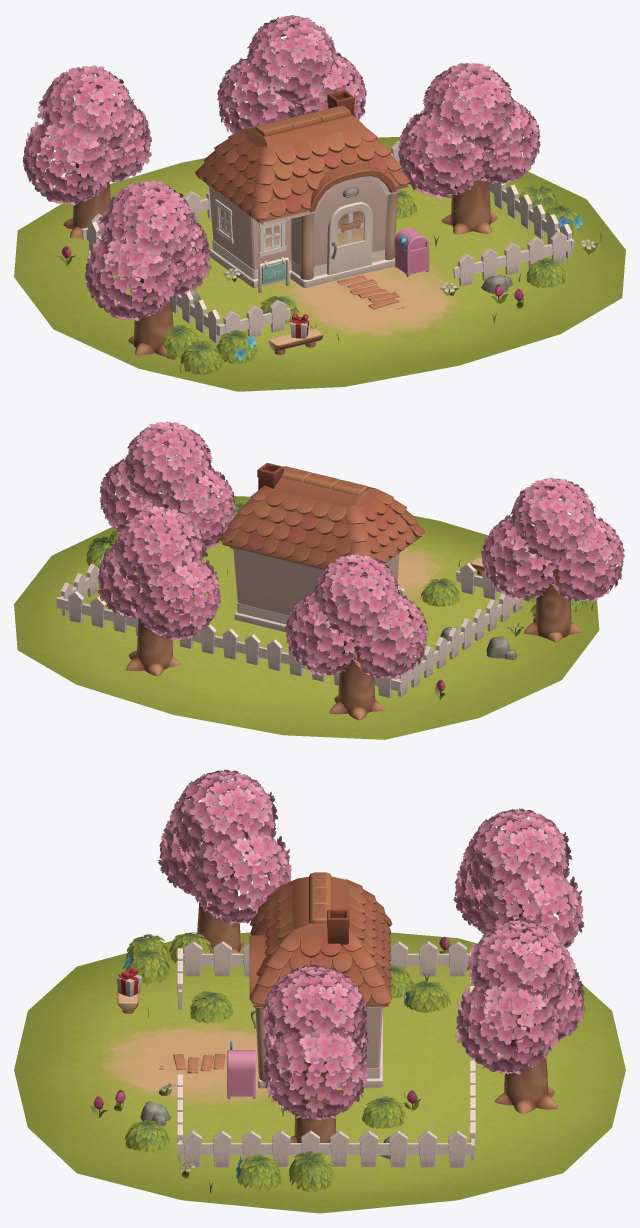
Rendered from animal_crossing_atlas_diorama_3.glb.
3 views of the same model, one above another, from view 1: azimuth 30°, elevation 25°; view 2: azimuth 150°, elevation 25°; view 3: azimuth 270°, elevation 25° (orthographic). The views are drawn at different scales.
Parts seen in each view (by area): view 1: ground, polySurface122 (×4), polySurface121 (×4), base, polySurface117 (×4), roof_base, roof_corner, door, r_tile_c19, pilares, pCylinder5, mailbox2 (+4 smaller); view 2: ground, polySurface122 (×4), polySurface121 (×4), polySurface117 (×4), base, roof_corner, roof_base, r_tile_c19, pCylinder9, pCylinder8, pCylinder7, chimney (+2 smaller); view 3: ground, polySurface117 (×4), polySurface122 (×4), polySurface121 (×4), roof_corner, roof_base, r_tile_c19, pCylinder7, base, mailbox2, pCylinder9, pCylinder5 (+6 smaller).
Boxes of the visible parts, <box> form: ground: <box>14,136,625,391</box>; polySurface122 (×4): <box>37,15,514,266</box>; polySurface121 (×4): <box>23,57,487,320</box>; base: <box>203,176,400,287</box>; polySurface117 (×4): <box>62,52,540,296</box>; roof_base: <box>202,115,408,222</box>; roof_corner: <box>195,123,410,220</box>; door: <box>327,202,373,274</box>; r_tile_c19: <box>205,139,259,212</box>; pilares: <box>300,193,397,279</box>; pCylinder5: <box>451,150,490,231</box>; mailbox2: <box>394,227,429,276</box>; ground: <box>14,496,599,739</box>; polySurface122 (×4): <box>115,421,595,637</box>; polySurface121 (×4): <box>130,467,624,679</box>; polySurface117 (×4): <box>97,452,557,675</box>; base: <box>229,546,399,638</box>; roof_corner: <box>219,485,424,576</box>; roof_base: <box>222,477,420,576</box>; r_tile_c19: <box>364,498,414,563</box>; pCylinder9: <box>535,563,571,638</box>; pCylinder8: <box>338,639,375,713</box>; pCylinder7: <box>137,589,172,670</box>; chimney: <box>257,463,283,489</box>; ground: <box>14,932,625,1213</box>; polySurface117 (×4): <box>186,832,584,1120</box>; polySurface122 (×4): <box>169,769,575,1048</box>; polySurface121 (×4): <box>158,798,585,1086</box>; roof_corner: <box>250,879,392,1004</box>; roof_base: <box>249,876,388,1007</box>; r_tile_c19: <box>279,935,370,1004</box>; pCylinder7: <box>504,1014,547,1105</box>; base: <box>255,1006,384,1088</box>; mailbox2: <box>227,1050,255,1098</box>; pCylinder9: <box>197,865,240,952</box>; pCylinder5: <box>294,1059,336,1142</box>.
Size of the model in its own units: 0.1786 by 0.0528 by 0.1575.
4 materials, 4 textured.
